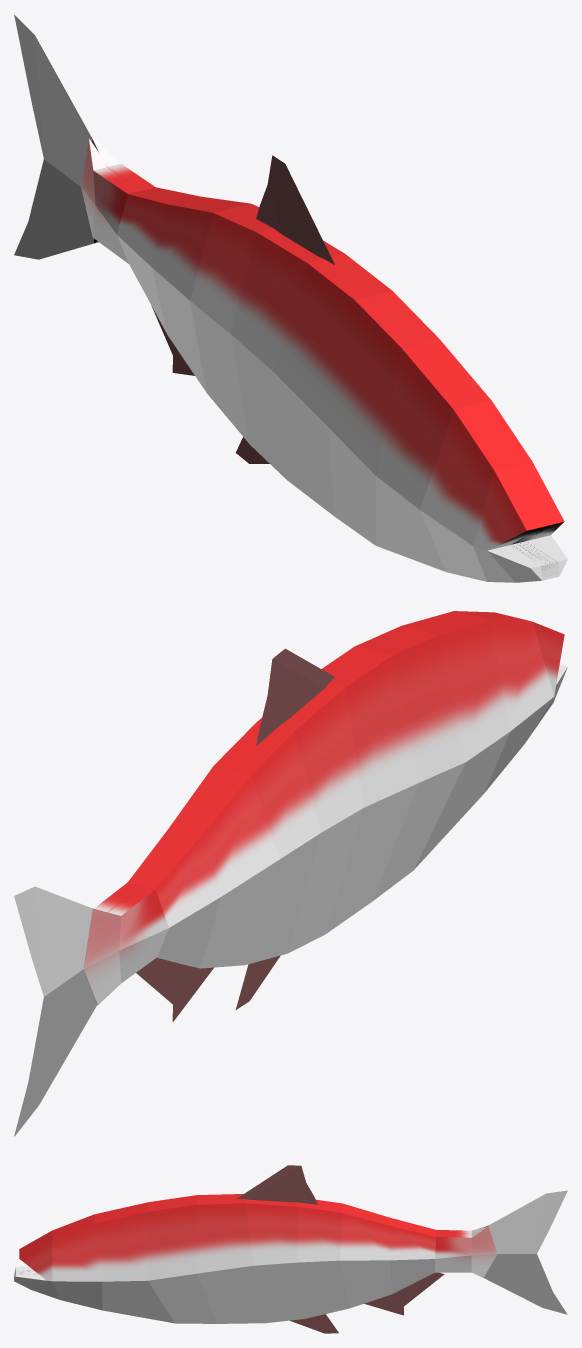
The model's file is fish_3.glb.
3 views of the same model, one above another, from view 1: azimuth 30°, elevation 25°; view 2: azimuth 150°, elevation 25°; view 3: azimuth 270°, elevation 25° (orthographic). The views are drawn at different scales.
Visible parts, largest first — view 1: Cube.009_Material.002_0; view 2: Cube.009_Material.002_0; view 3: Cube.009_Material.002_0.
Boxes of the visible parts, x1,y1,x2,y2 form: Cube.009_Material.002_0: [14, 14, 567, 582]; Cube.009_Material.002_0: [14, 611, 567, 1136]; Cube.009_Material.002_0: [14, 1165, 567, 1333].
Size of the model in its own units: 14.6 by 50.47 by 150.
1 material, 1 textured.
